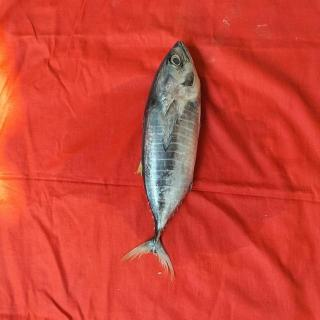Ikan: (110, 35, 222, 283)
